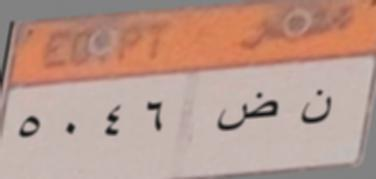0: (58, 116, 82, 146)
4: (92, 100, 132, 146)
5: (8, 110, 52, 145)
6: (143, 94, 175, 140)
daad: (218, 90, 282, 140)
noon: (295, 78, 334, 133)
